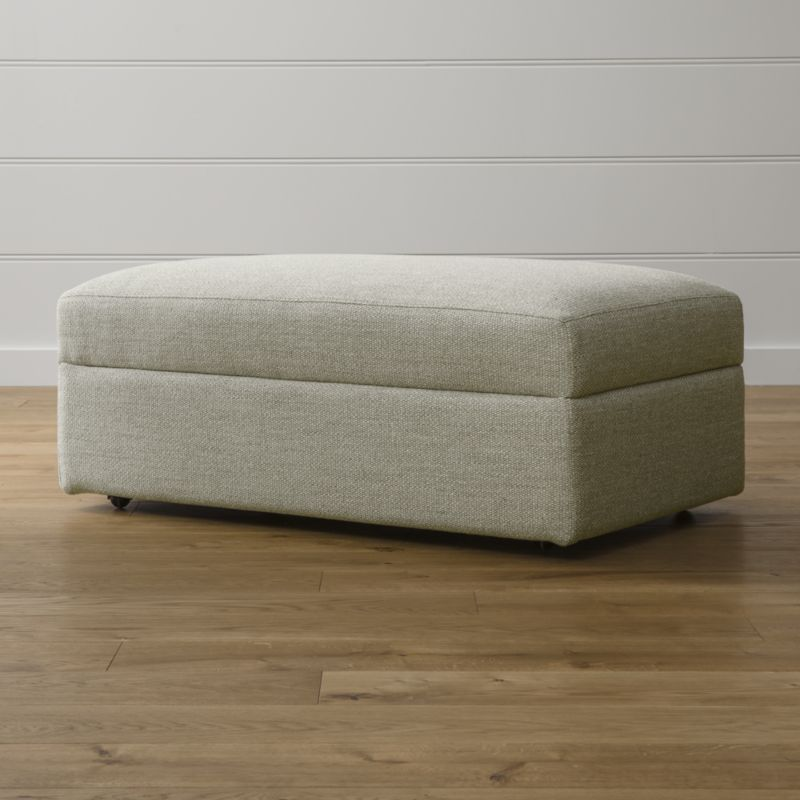chairs: (55, 250, 749, 565)
